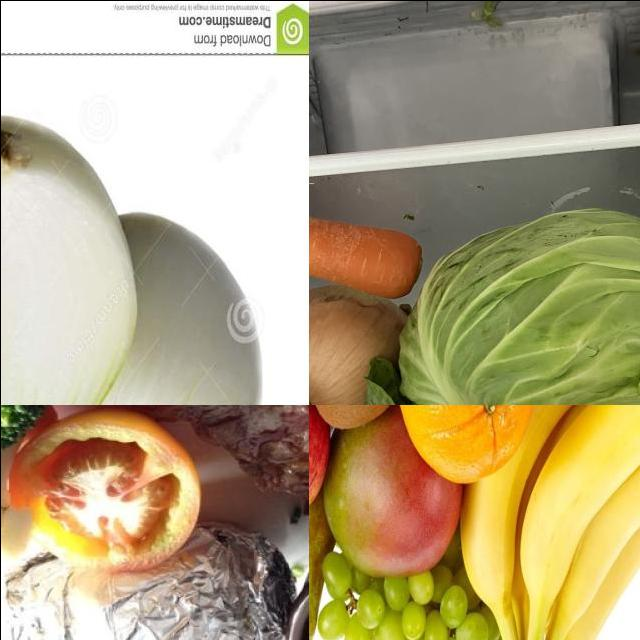cabbage: (360, 163, 640, 405)
carrot: (309, 175, 424, 302)
onion: (8, 214, 262, 405), (1, 118, 135, 405), (309, 281, 418, 405)
tomato: (10, 412, 201, 573)
